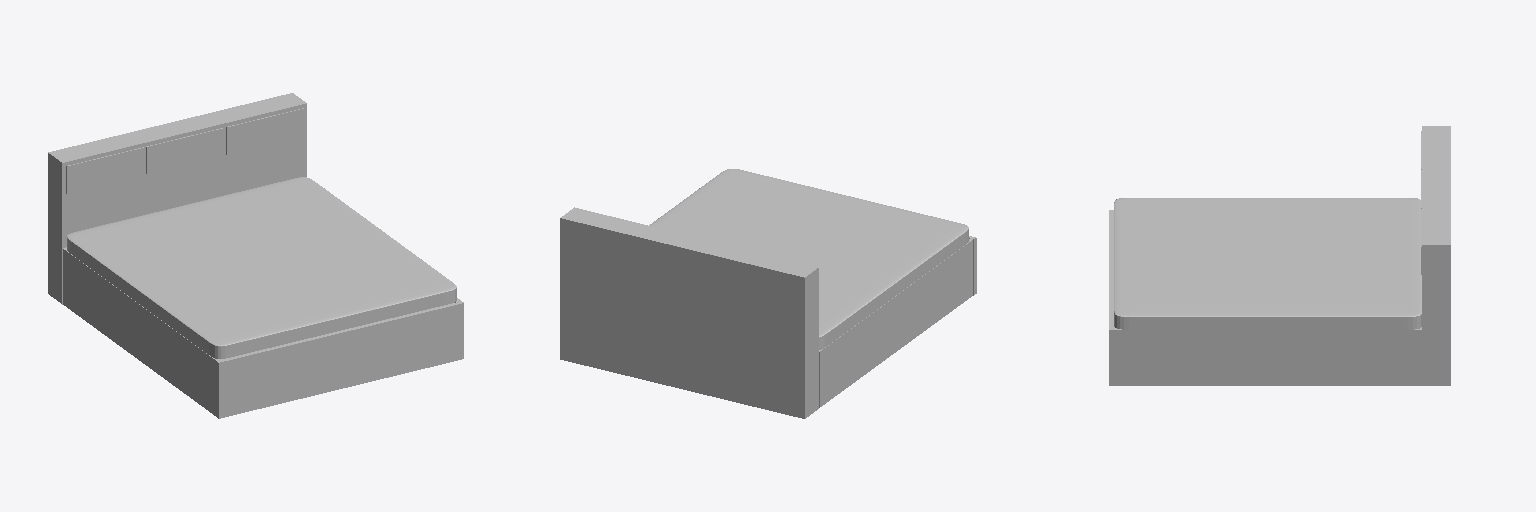
The model's file is MORENA.obj.
3 views of the same model, side by side, from view 1: azimuth 30°, elevation 25°; view 2: azimuth 150°, elevation 25°; view 3: azimuth 270°, elevation 25° (orthographic).
Visible parts, largest first — view 1: Cube.003_Cube.004, Cube_Cube.001, Cube.001_Cube.002, Cube.005_Cube.006, Cube.006_Cube.007; view 2: Cube_Cube.001, Cube.003_Cube.004, Cube.005_Cube.006; view 3: Cube.003_Cube.004, Cube.004_Cube.005, Cube_Cube.001, Cube.001_Cube.002.
Boxes of the visible parts, <box> form: Cube.003_Cube.004: <box>67,177,456,358</box>; Cube_Cube.001: <box>48,93,306,304</box>; Cube.001_Cube.002: <box>216,301,463,418</box>; Cube.005_Cube.006: <box>63,247,221,415</box>; Cube.006_Cube.007: <box>66,108,303,193</box>; Cube_Cube.001: <box>560,207,818,418</box>; Cube.003_Cube.004: <box>649,169,968,349</box>; Cube.005_Cube.006: <box>819,239,972,407</box>; Cube.003_Cube.004: <box>1114,198,1421,329</box>; Cube.004_Cube.005: <box>1114,327,1421,385</box>; Cube_Cube.001: <box>1422,126,1450,385</box>; Cube.001_Cube.002: <box>1109,210,1113,385</box>.
Size of the model in its own units: 3.67 by 2.02 by 4.43.